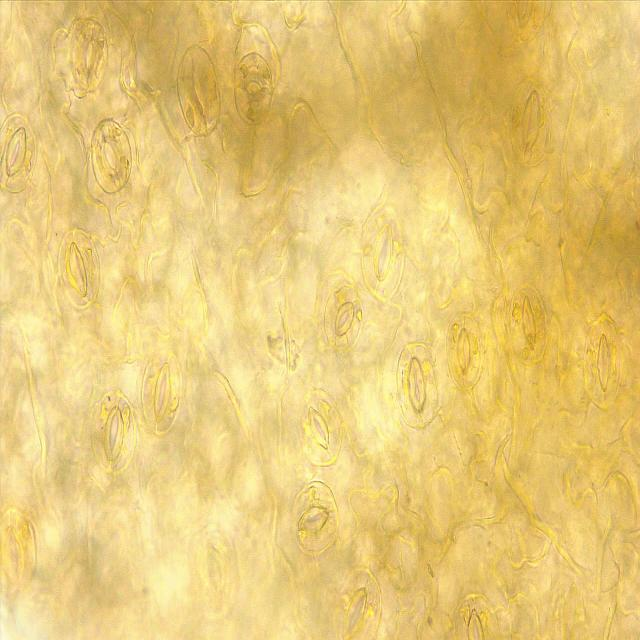Stomata: (186, 521, 239, 627), (360, 202, 406, 303), (176, 42, 221, 138), (509, 75, 553, 168), (140, 347, 183, 441), (92, 387, 137, 476), (582, 310, 622, 410), (56, 226, 102, 311), (296, 388, 344, 468), (396, 340, 438, 429), (334, 564, 383, 640), (291, 480, 339, 557), (0, 505, 38, 597), (507, 282, 548, 367), (90, 116, 133, 194), (446, 310, 484, 392), (0, 111, 37, 195), (323, 281, 365, 354), (69, 16, 109, 92), (233, 51, 274, 124), (454, 591, 502, 640), (506, 0, 548, 44)
